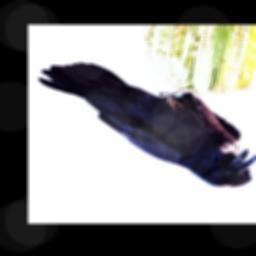Crow: (38, 62, 256, 188)
